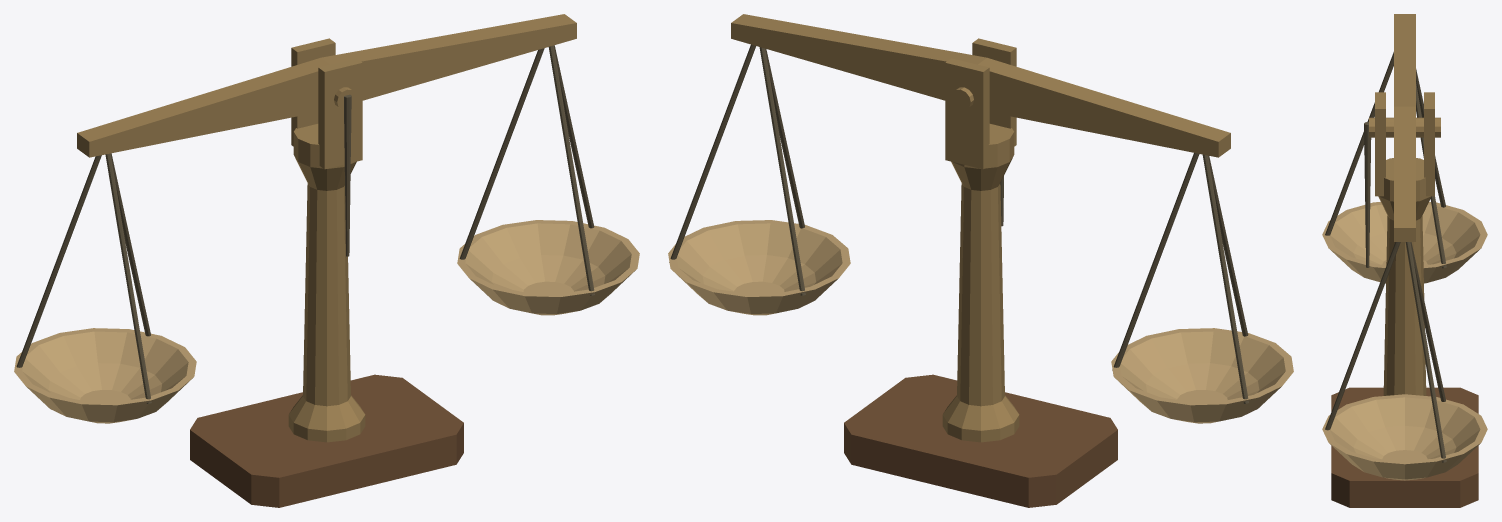
3 renders of one model, left to right at view 1: azimuth 30°, elevation 25°; view 2: azimuth 150°, elevation 25°; view 3: azimuth 270°, elevation 25°, orthographic. The views are drawn at different scales.
Visible parts, largest first — view 1: WholeChamferedWalnutBase, WholeTaperedEqualArmBeam, WholeTurnedCentralPillar, RightWholeHollowSuspendedPan, LeftWholeHollowSuspendedPan, FrontBearingCheek, LeftSuspensionWire1, RightSuspensionWire1, LeftSuspensionWire3, RightSuspensionWire3, RearBearingCheek, WholeCentralDescendingPointer (+2 smaller); view 2: WholeChamferedWalnutBase, WholeTaperedEqualArmBeam, WholeTurnedCentralPillar, LeftWholeHollowSuspendedPan, RightWholeHollowSuspendedPan, RearBearingCheek, LeftSuspensionWire3, RightSuspensionWire3, LeftSuspensionWire2, RightSuspensionWire2, FrontBearingCheek, LeftSuspensionWire1 (+1 smaller); view 3: RightWholeHollowSuspendedPan, WholeChamferedWalnutBase, LeftWholeHollowSuspendedPan, WholeTurnedCentralPillar, WholeTaperedEqualArmBeam, RightSuspensionWire2, RightSuspensionWire1, FrontBearingCheek, RearBearingCheek, LeftSuspensionWire1, WholeCentralDescendingPointer, RightSuspensionWire3 (+3 smaller).
Part boxes in pixels (x1=…): WholeChamferedWalnutBase: x1=190, y1=374, x2=463, y2=507; WholeTaperedEqualArmBeam: x1=77, y1=14, x2=576, y2=157; WholeTurnedCentralPillar: x1=288, y1=124, x2=365, y2=442; RightWholeHollowSuspendedPan: x1=457, y1=220, x2=639, y2=315; LeftWholeHollowSuspendedPan: x1=14, y1=328, x2=196, y2=423; FrontBearingCheek: x1=318, y1=58, x2=362, y2=169; LeftSuspensionWire1: x1=105, y1=153, x2=151, y2=403; RightSuspensionWire1: x1=548, y1=45, x2=594, y2=295; LeftSuspensionWire3: x1=16, y1=155, x2=101, y2=367; RightSuspensionWire3: x1=459, y1=48, x2=544, y2=259; RearBearingCheek: x1=291, y1=38, x2=335, y2=146; WholeCentralDescendingPointer: x1=344, y1=94, x2=351, y2=256; WholeChamferedWalnutBase: x1=844, y1=374, x2=1117, y2=507; WholeTaperedEqualArmBeam: x1=731, y1=14, x2=1230, y2=157; WholeTurnedCentralPillar: x1=942, y1=124, x2=1019, y2=442; LeftWholeHollowSuspendedPan: x1=1111, y1=328, x2=1293, y2=423; RightWholeHollowSuspendedPan: x1=668, y1=220, x2=850, y2=315; RearBearingCheek: x1=945, y1=58, x2=989, y2=169; LeftSuspensionWire3: x1=1202, y1=154, x2=1248, y2=403; RightSuspensionWire3: x1=759, y1=47, x2=805, y2=295; LeftSuspensionWire2: x1=1112, y1=153, x2=1199, y2=370; RightSuspensionWire2: x1=669, y1=44, x2=755, y2=262; FrontBearingCheek: x1=972, y1=38, x2=1016, y2=146; LeftSuspensionWire1: x1=1208, y1=155, x2=1248, y2=336; RightWholeHollowSuspendedPan: x1=1322, y1=394, x2=1487, y2=480; WholeChamferedWalnutBase: x1=1331, y1=387, x2=1478, y2=507; LeftWholeHollowSuspendedPan: x1=1322, y1=201, x2=1487, y2=283; WholeTurnedCentralPillar: x1=1378, y1=158, x2=1431, y2=395; WholeTaperedEqualArmBeam: x1=1394, y1=14, x2=1415, y2=241; RightSuspensionWire2: x1=1405, y1=242, x2=1446, y2=462; RightSuspensionWire1: x1=1325, y1=242, x2=1400, y2=430; FrontBearingCheek: x1=1375, y1=92, x2=1385, y2=196; RearBearingCheek: x1=1424, y1=92, x2=1434, y2=196; LeftSuspensionWire1: x1=1325, y1=52, x2=1393, y2=235; WholeCentralDescendingPointer: x1=1364, y1=122, x2=1371, y2=267; RightSuspensionWire3: x1=1410, y1=242, x2=1445, y2=401.
Size of the model in its own units: 1.36 by 0.865 by 0.36.
